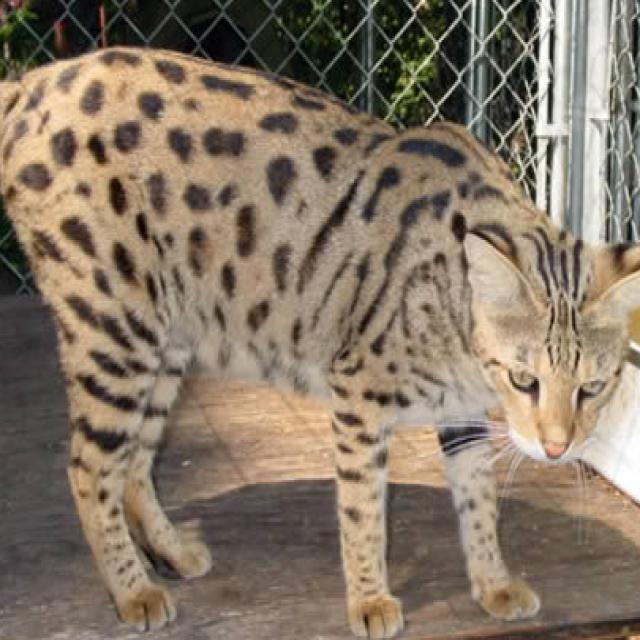Egyptian Mau: (0, 38, 640, 640)
